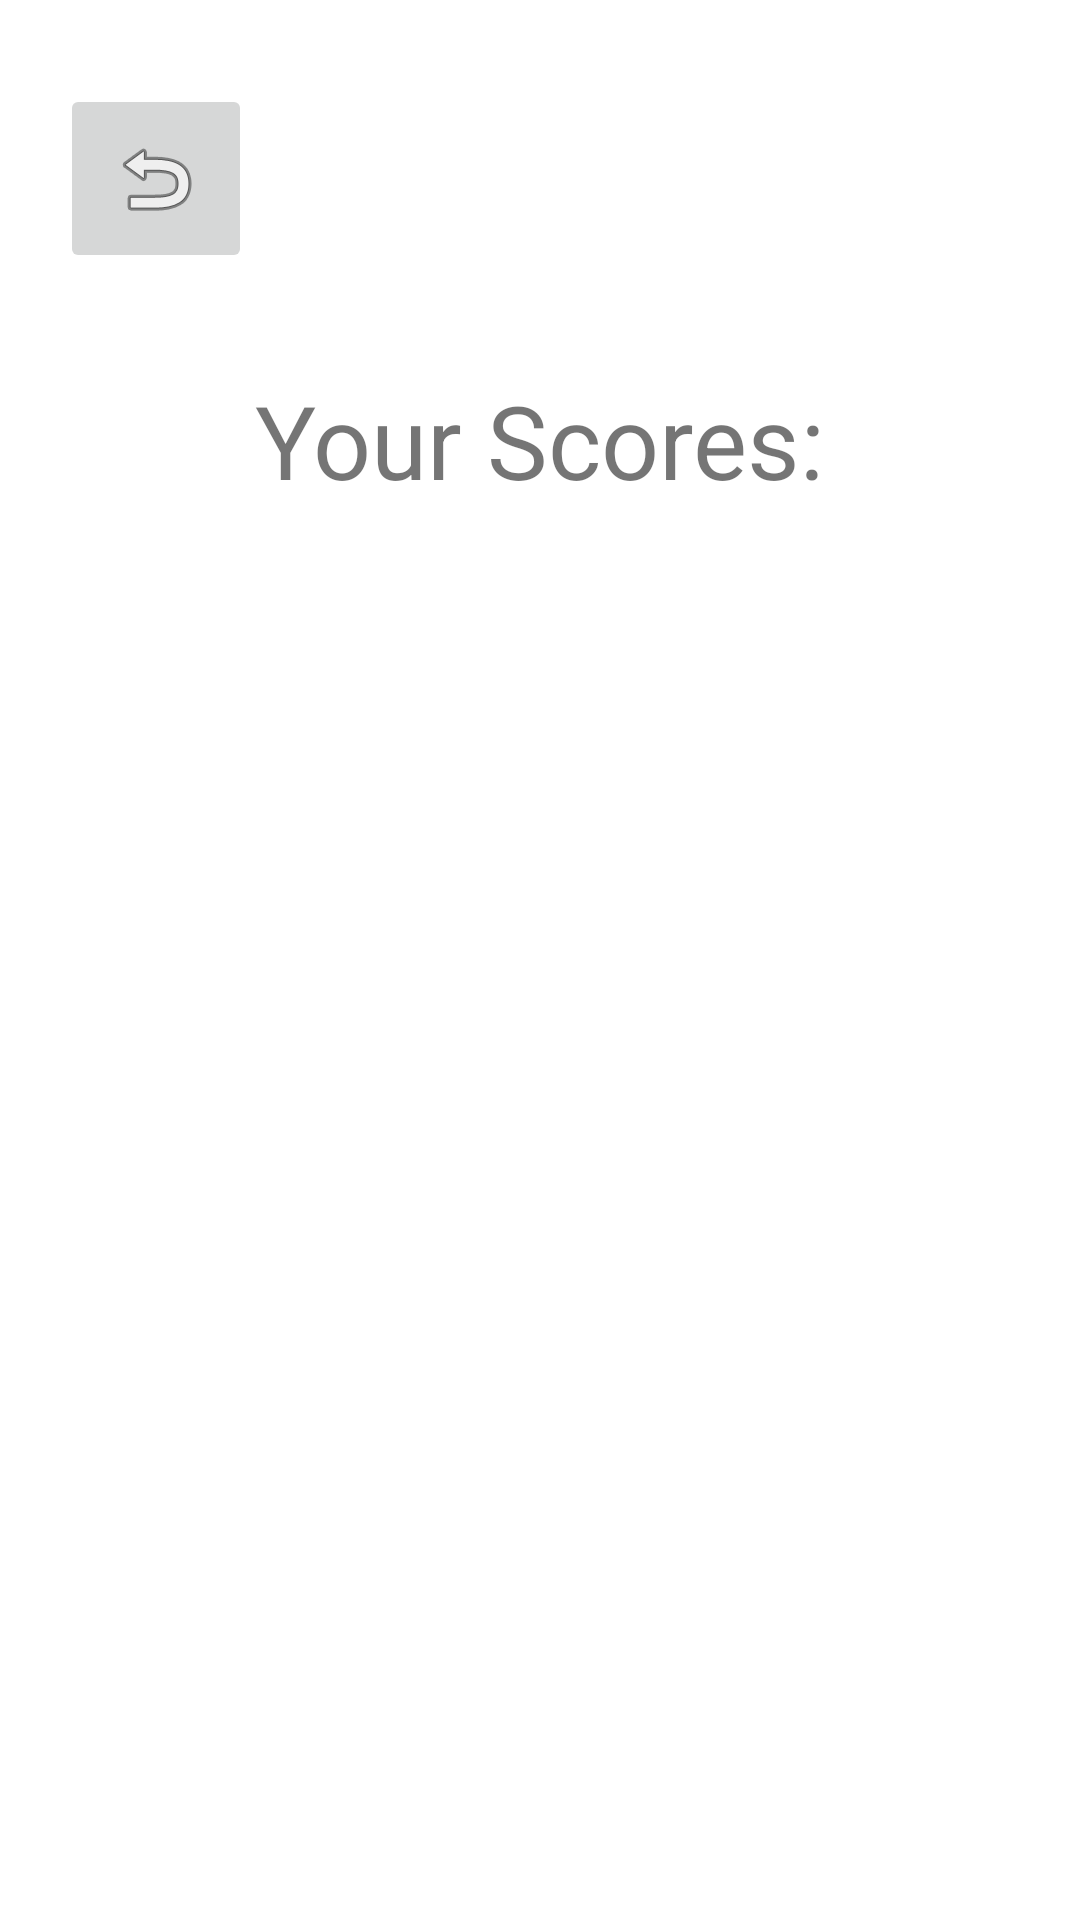

Where to tap for icons on this 1080px×1920px app screen, as (x=x, y=y):
revert: (x=156, y=178)
